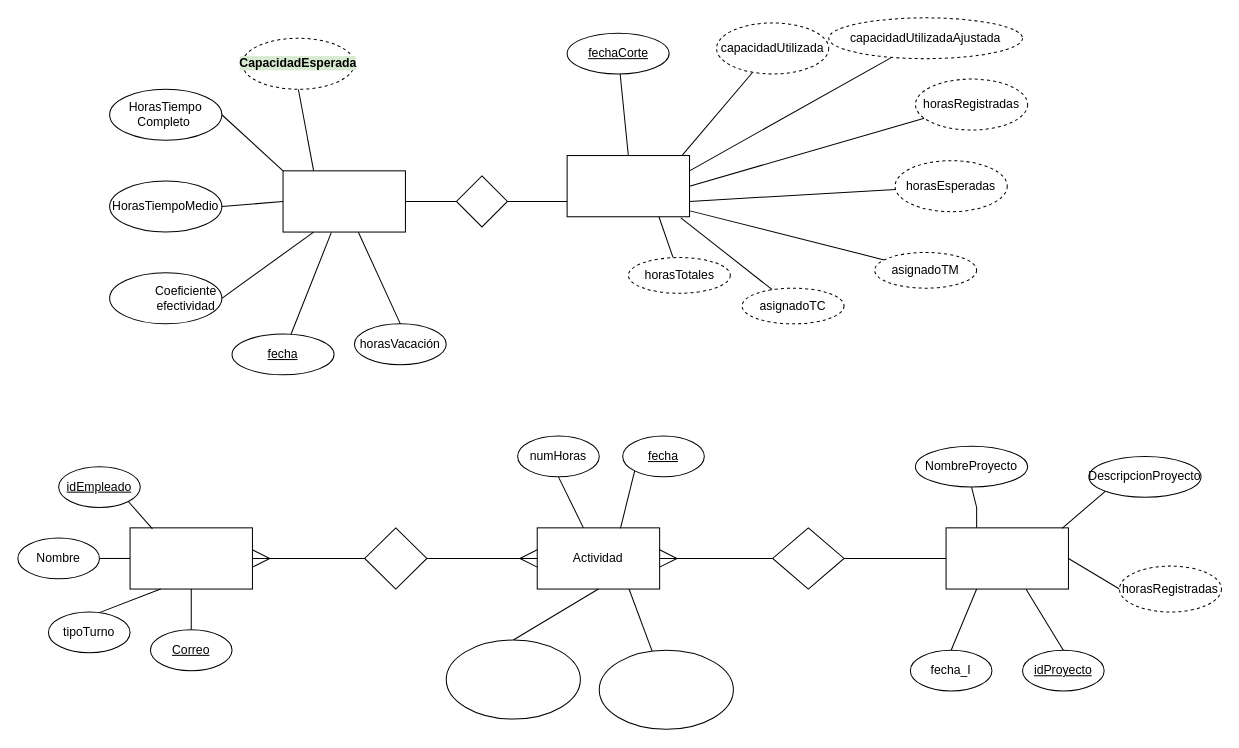
Image size: 1239x748. Some labels were removed from this diagram. Each missing label, with the centre of its shape:
Catalogo de variables: pixel 343 201
DescripciónActividad: pixel 512 679
Empleado: pixel 190 558
idActividad: pixel 665 689
pertenece: pixel 808 558
Proyecto: pixel 1006 558
registra: pixel 395 558
Reporte: pixel 628 186
